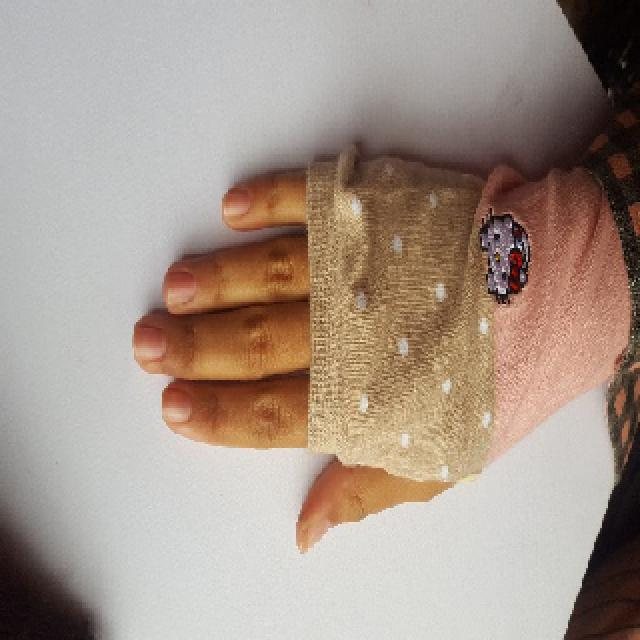Nail: (134, 325, 168, 361), (166, 272, 197, 307), (162, 389, 192, 422), (224, 188, 251, 218), (305, 521, 332, 549)
